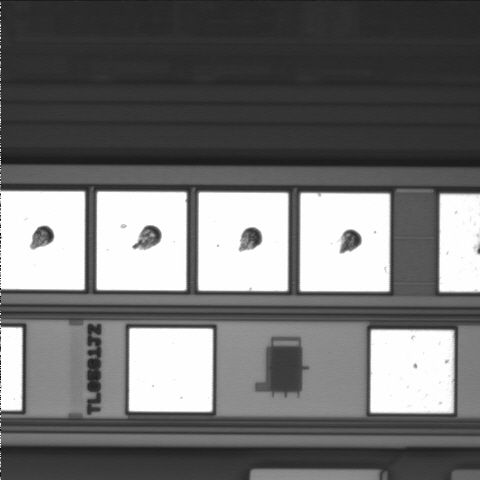pad: (198, 192, 288, 291), (97, 192, 187, 290), (300, 193, 390, 291), (129, 328, 213, 412), (370, 330, 454, 413)
